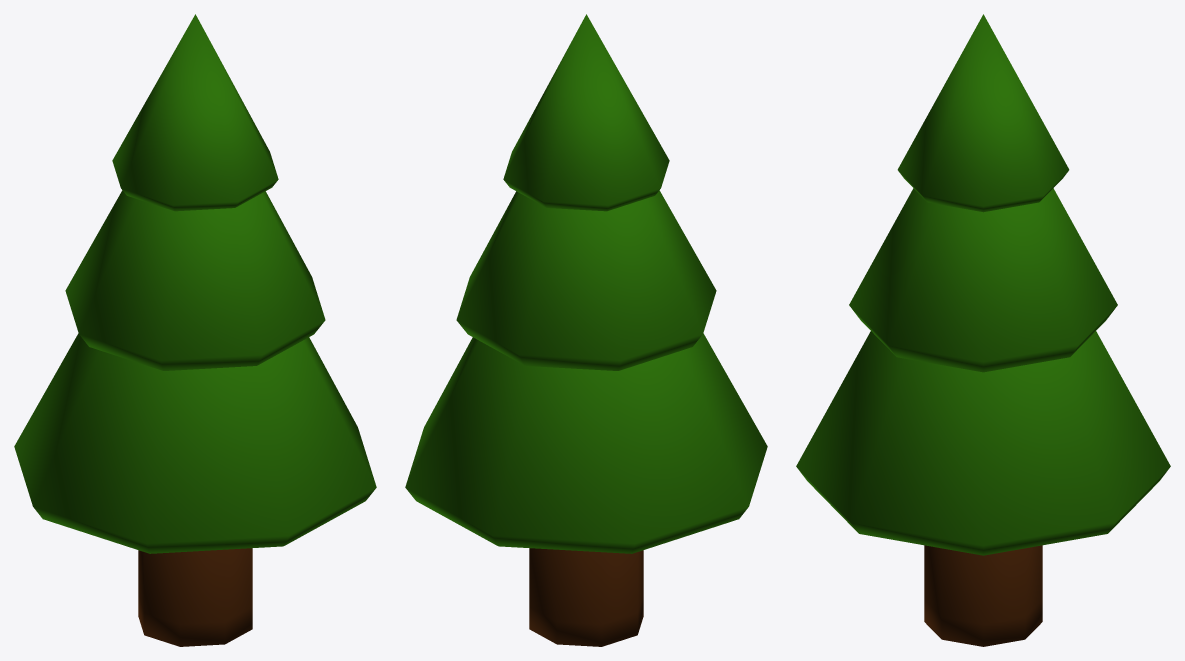
The model's file is PineTree.fbx.
3 renders of one model, left to right at view 1: azimuth 30°, elevation 25°; view 2: azimuth 150°, elevation 25°; view 3: azimuth 270°, elevation 25°, orthographic.
Visible parts, largest first — view 1: PineTree; view 2: PineTree; view 3: PineTree.
Part boxes in pixels (bbox=[...]): PineTree: bbox=[14, 14, 376, 646]; PineTree: bbox=[405, 14, 767, 646]; PineTree: bbox=[796, 14, 1170, 646].
Bounding box in the file's own units: 5.68 × 10.17 × 5.68.
